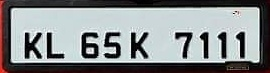character: (23, 30, 43, 60), (129, 30, 149, 60), (45, 30, 65, 59), (80, 30, 99, 59), (103, 30, 122, 59), (174, 30, 193, 58), (234, 30, 246, 60), (216, 29, 227, 59), (199, 30, 209, 59)
